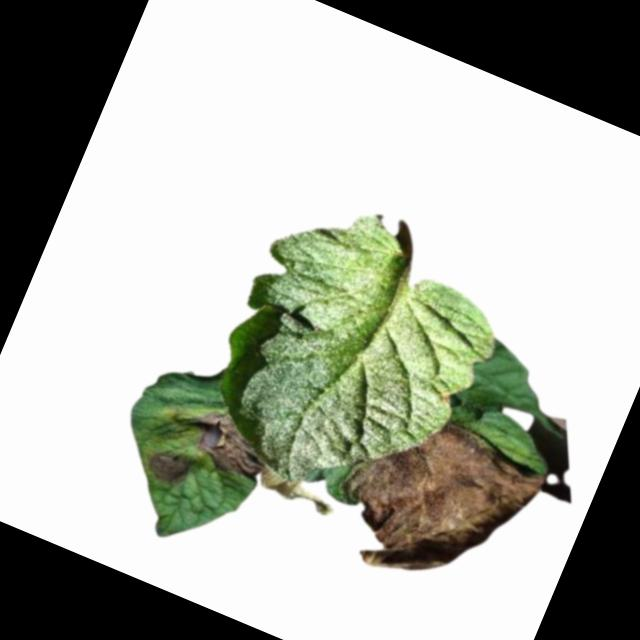Late_blight: (317, 392, 553, 616), (181, 401, 277, 484), (252, 467, 339, 526), (142, 443, 193, 492)
healthy: (187, 182, 523, 531)
